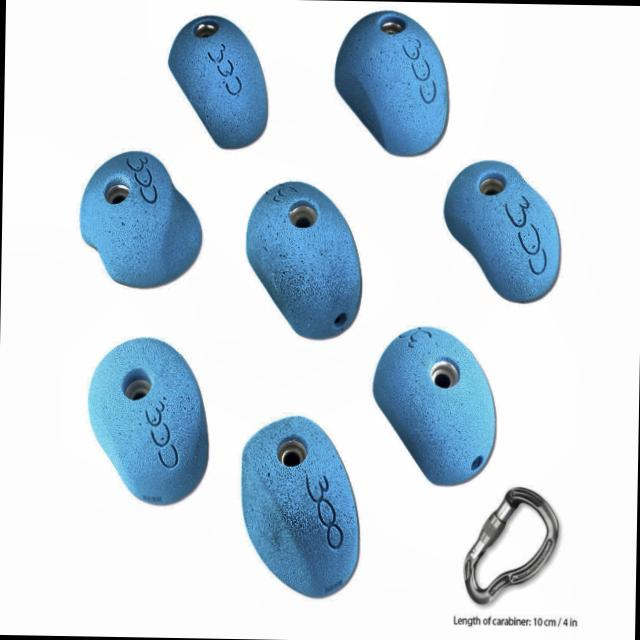Hold: (85, 333, 216, 512), (237, 420, 361, 604), (367, 316, 491, 488), (241, 177, 371, 332), (434, 156, 560, 314), (72, 152, 210, 294), (326, 9, 452, 149), (166, 13, 270, 147)
